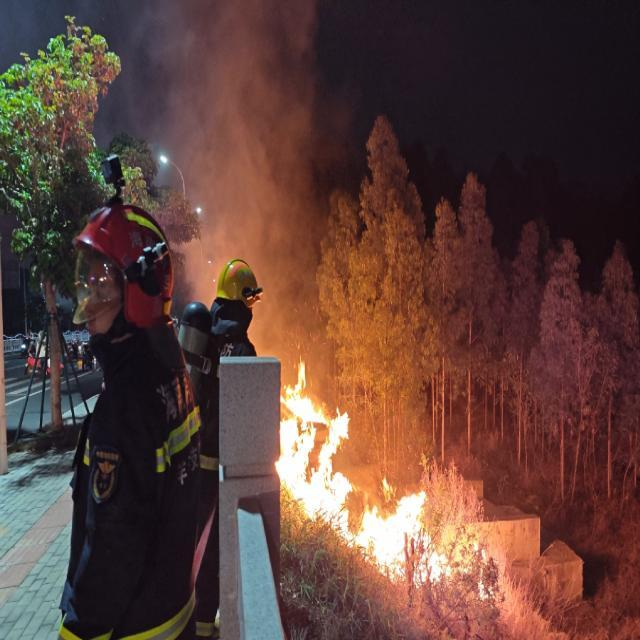Fire: (278, 359, 352, 517), (352, 492, 458, 585)
Smoke: (190, 0, 316, 250)
